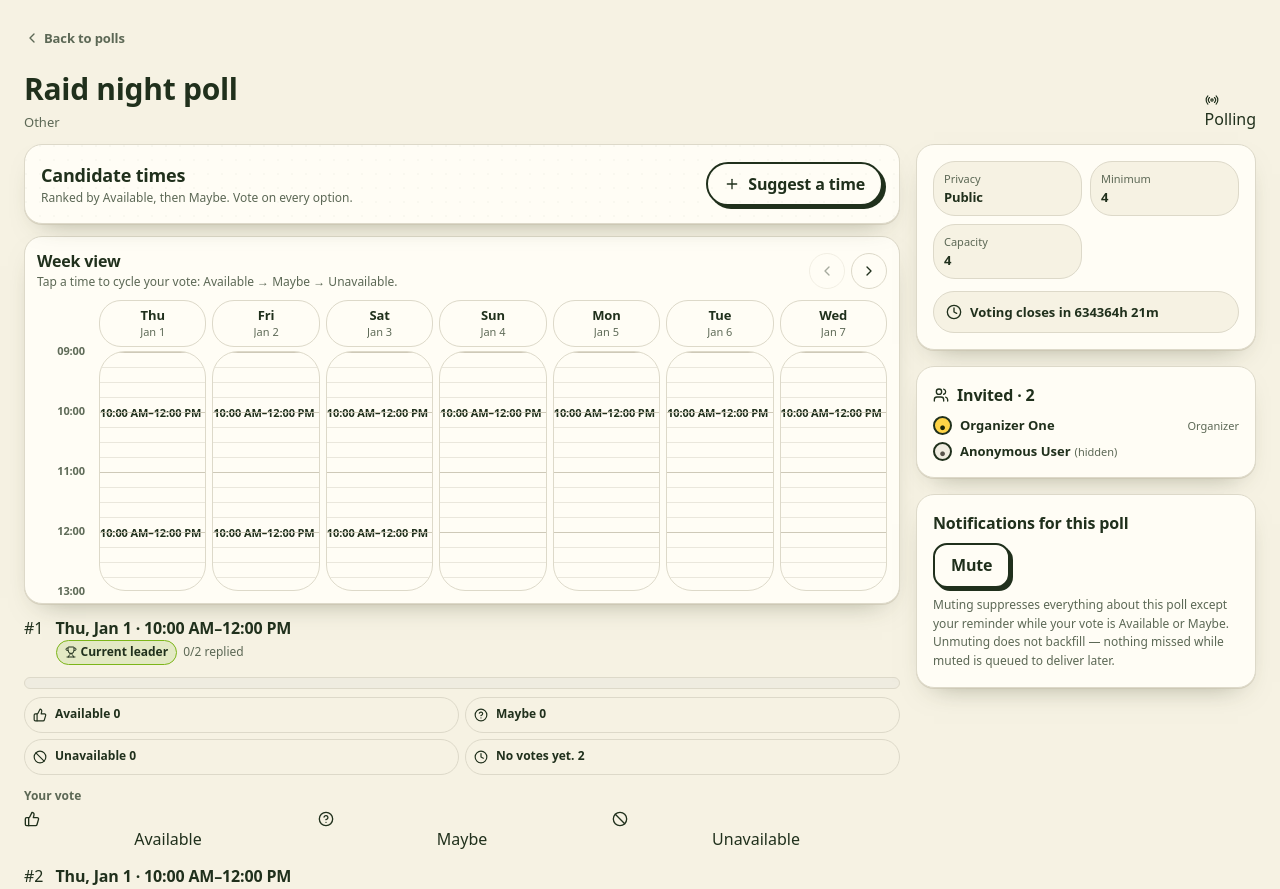
PollDetailPage (lovable) › suggest option (D-033/D-171) › renders the D-171 suggestion-cap copy, distinct from the D-131 creation-cap copy_D171
This screenshot has width=1280, height=889.
Click the button "Suggest a time" at (795, 184), box [706, 162, 883, 206]
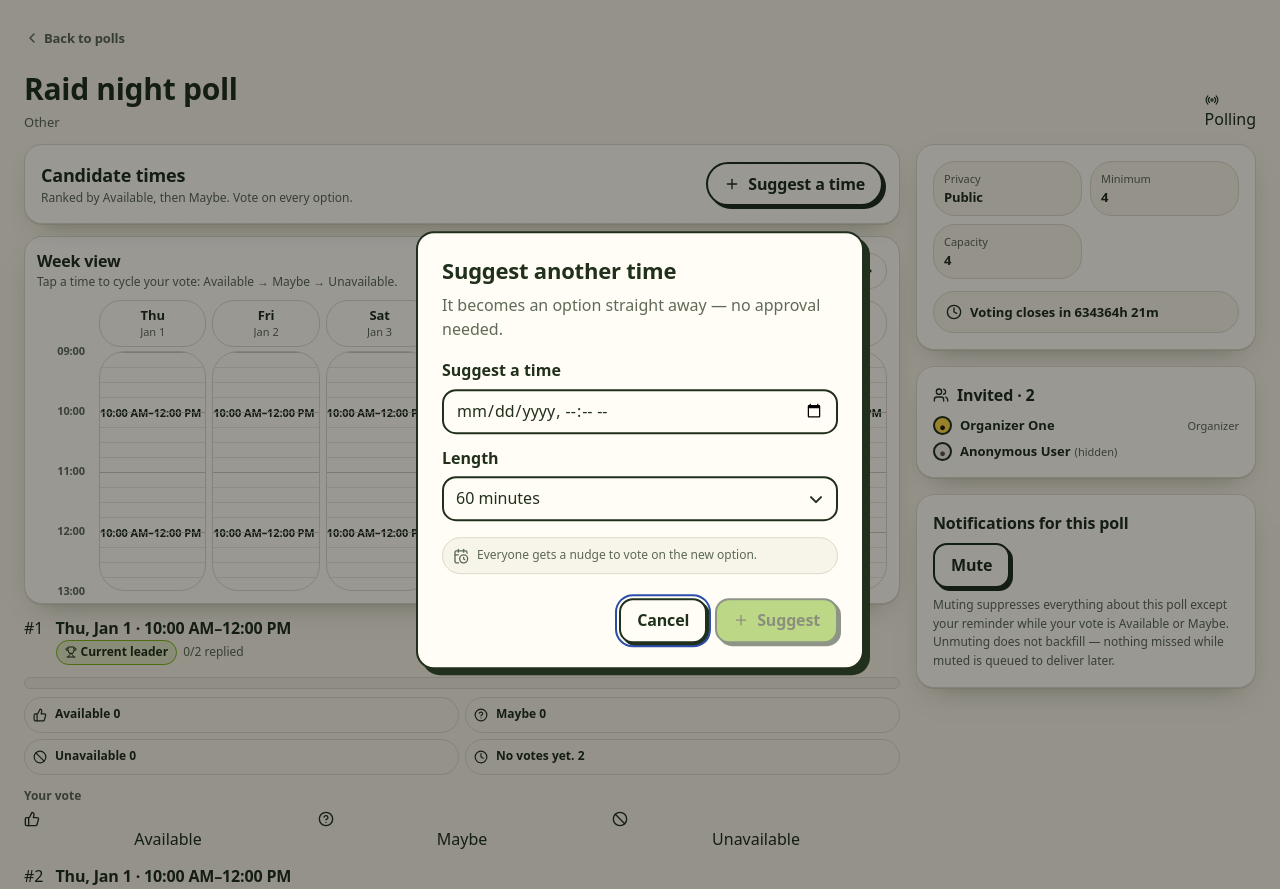
Type "2099-03-01T10:00" into the field labelled "Suggest a time" at (640, 412), box [442, 389, 838, 434]
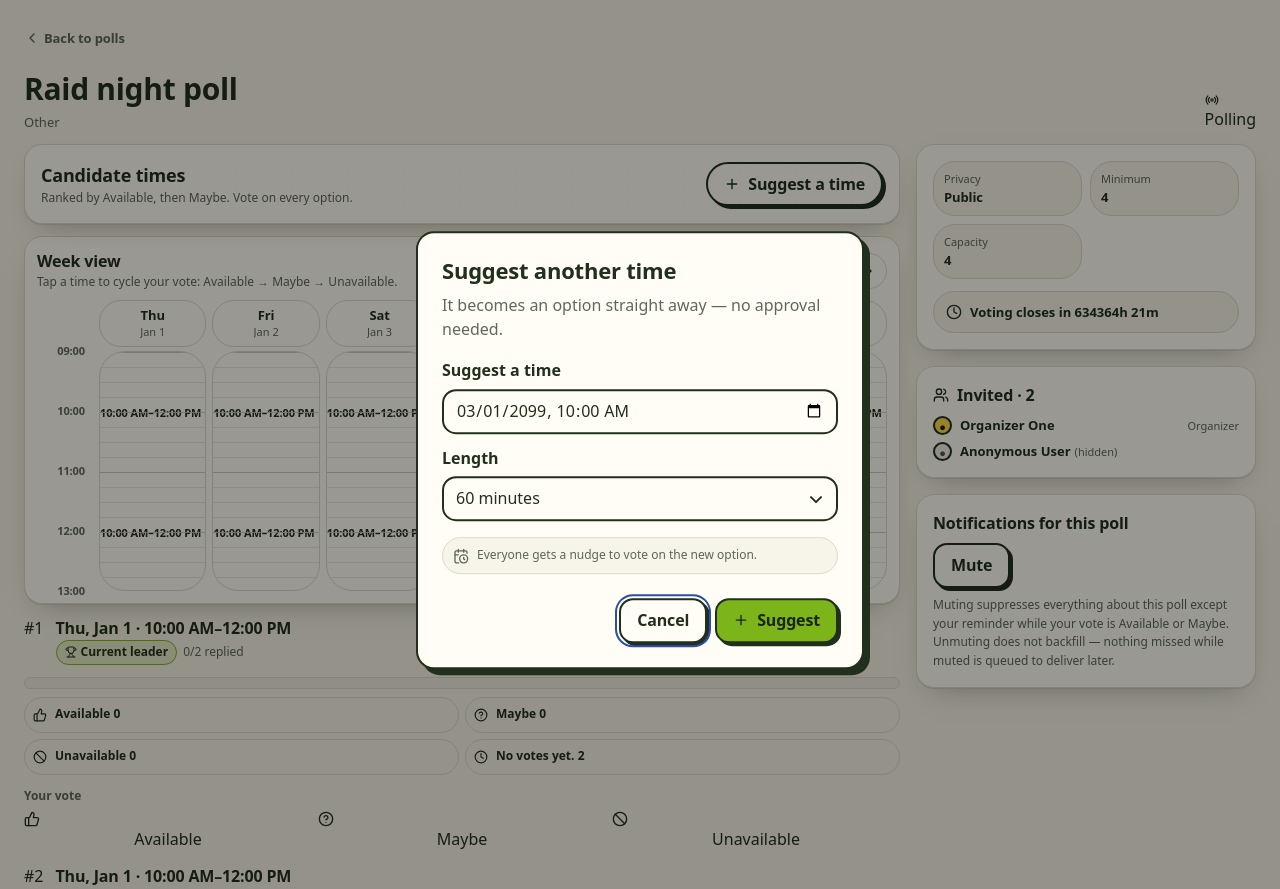
Click the button "Suggest" at (777, 620), box [715, 598, 838, 643]
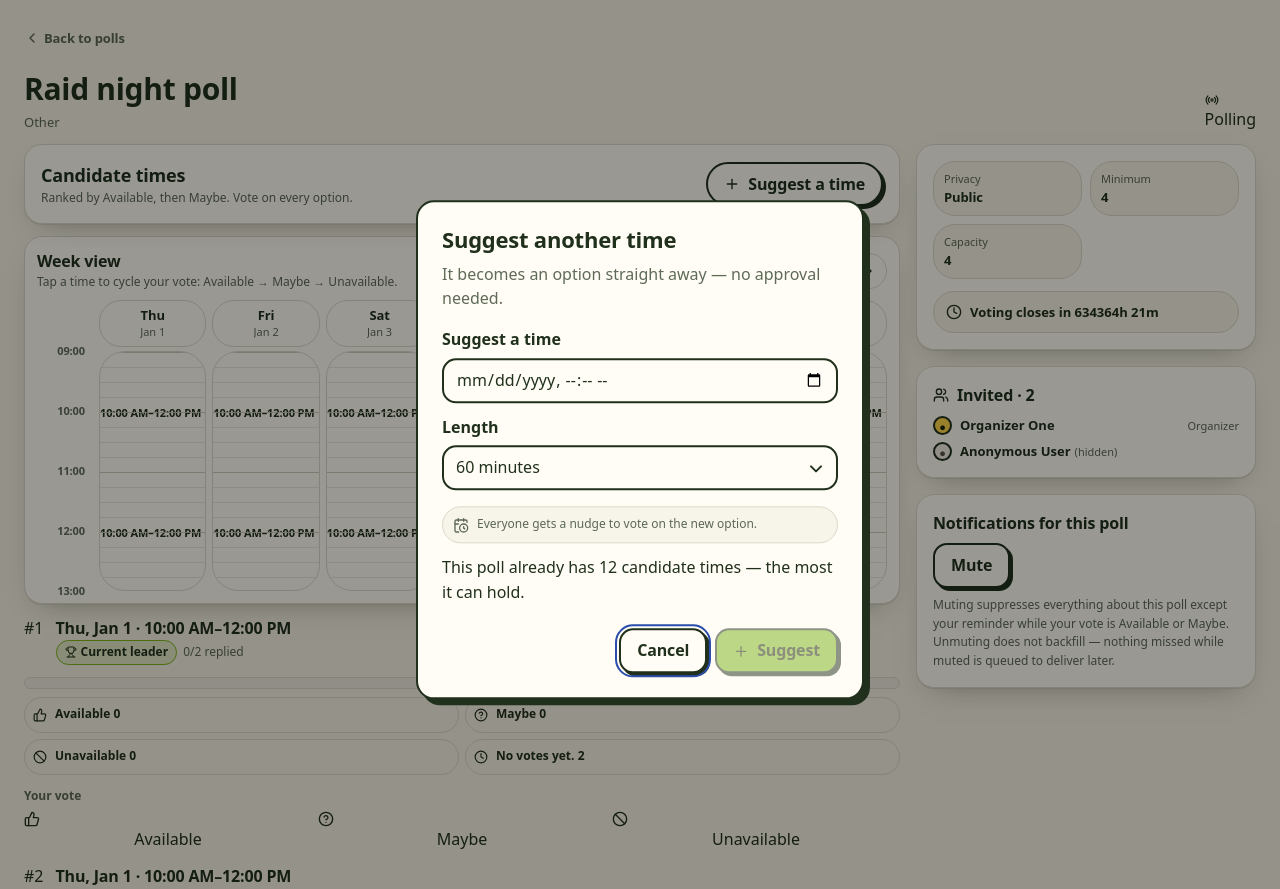
Expected: the text "This poll already has 12 candidate times — the most it can hold." is shown, [442, 555, 838, 605]
